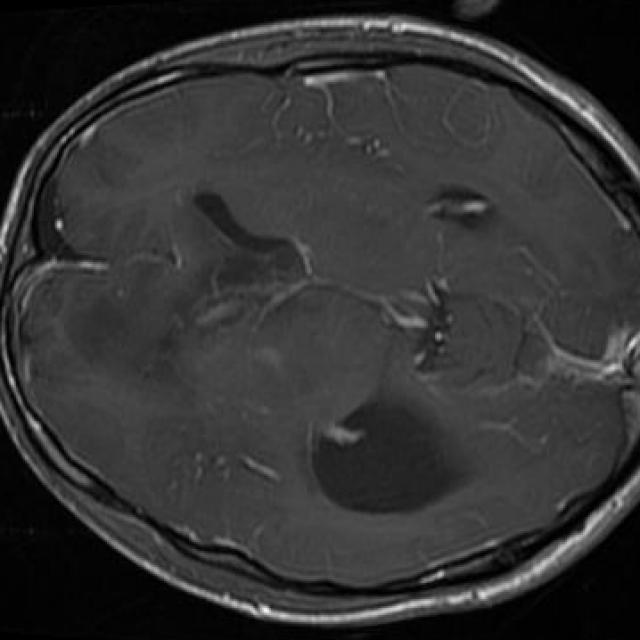glioma: (314, 398, 467, 513)
